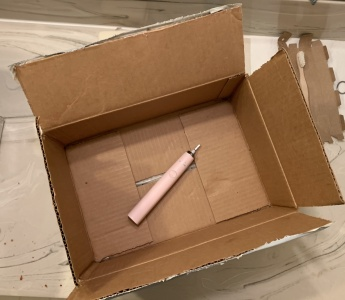innerbox: (63, 99, 267, 244)
outerbox: (43, 28, 314, 261)
product: (131, 151, 195, 223)
